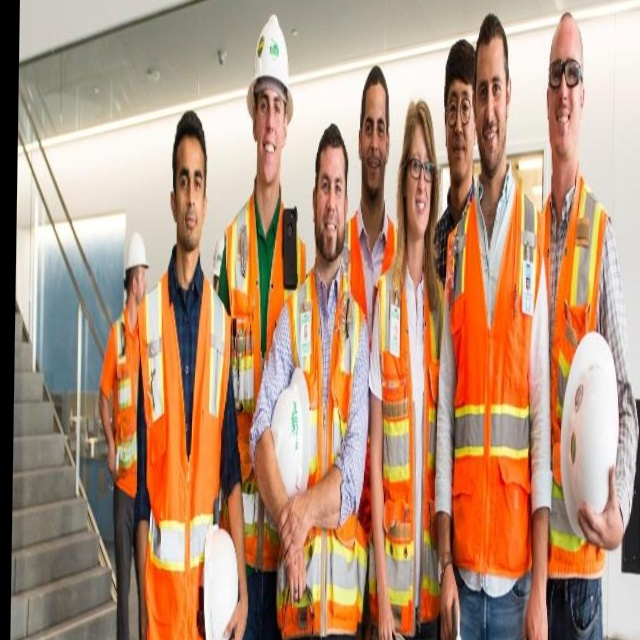Con_Casco: (247, 16, 297, 187)
Con_Chaleco: (443, 182, 536, 566), (529, 185, 614, 573), (140, 261, 226, 640), (278, 269, 363, 630), (363, 256, 444, 624)
Sin_Casco_Mascarrilla: (545, 8, 588, 175), (472, 15, 511, 178), (171, 112, 208, 253), (358, 66, 390, 196)
